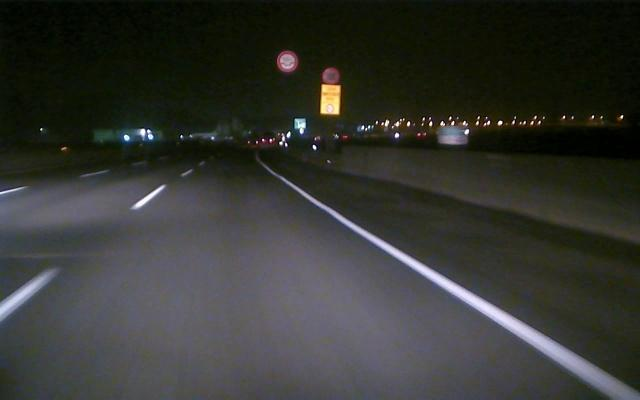lane: (277, 176, 633, 396), (2, 171, 185, 320), (0, 169, 114, 196)
